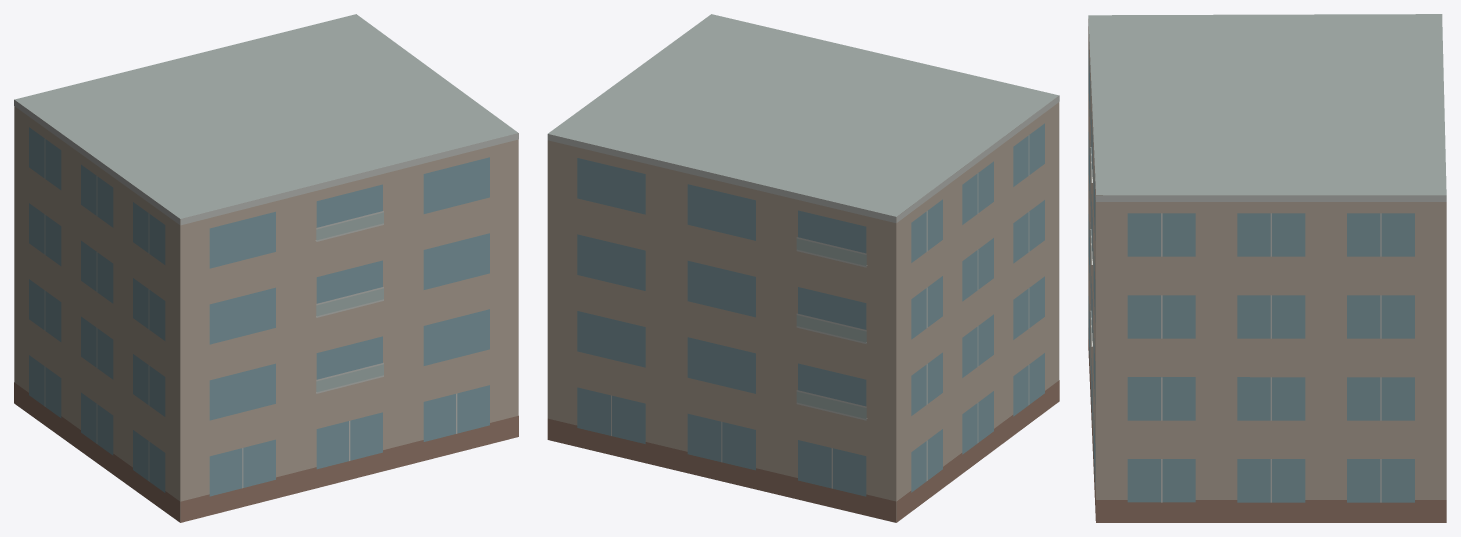
The model's file is survey-upis-32813816.glb.
3 renders of one model, left to right at view 1: azimuth 30°, elevation 25°; view 2: azimuth 150°, elevation 25°; view 3: azimuth 270°, elevation 25°, orthographic. The views are drawn at different scales.
Parts seen in each view (by area): view 1: survey-upis-32813816.tmp; view 2: survey-upis-32813816.tmp; view 3: survey-upis-32813816.tmp.
Boxes of the visible parts, left/top/right/bottom form: survey-upis-32813816.tmp: left=14, top=14, right=518, bottom=522; survey-upis-32813816.tmp: left=547, top=14, right=1059, bottom=522; survey-upis-32813816.tmp: left=1088, top=14, right=1446, bottom=522.
Bounding box in the file's own units: 13.77 × 11.6 × 11.51.
